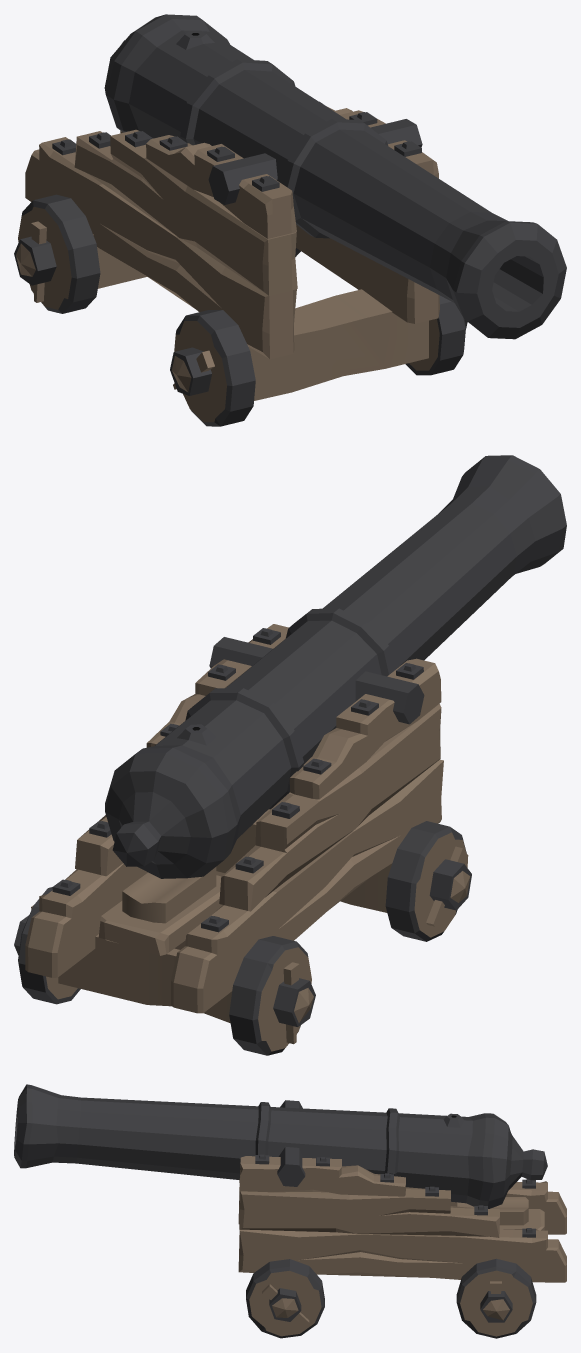
File: SM_Prop_Cannon_01.glb
3 views of the same model, one above another, from view 1: azimuth 30°, elevation 25°; view 2: azimuth 150°, elevation 25°; view 3: azimuth 270°, elevation 25° (orthographic). The views are drawn at different scales.
Parts seen in each view (by area): view 1: SM_Prop_Cannon_01; view 2: SM_Prop_Cannon_01; view 3: SM_Prop_Cannon_01.
Boxes of the visible parts, bbox=[...] form: SM_Prop_Cannon_01: bbox=[14, 14, 566, 426]; SM_Prop_Cannon_01: bbox=[14, 455, 566, 1055]; SM_Prop_Cannon_01: bbox=[14, 1084, 566, 1338].
Bounding box in the file's own units: 0.00991 × 0.0103 × 0.0244.
Materials: 1 (1 with a texture image).
